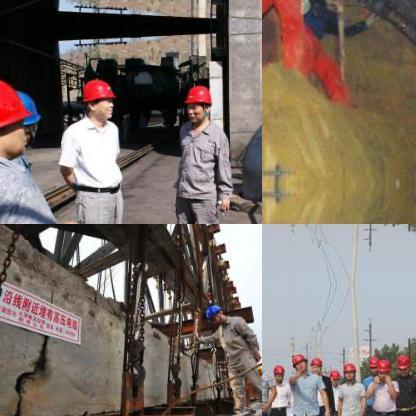Helmet: (0, 73, 31, 160), (78, 72, 116, 122), (13, 85, 42, 145), (181, 79, 213, 123), (288, 350, 310, 372), (204, 302, 226, 322), (394, 351, 410, 375), (340, 361, 358, 382), (374, 358, 390, 380), (270, 362, 284, 384), (326, 366, 340, 384), (308, 355, 320, 375), (366, 354, 378, 372)
